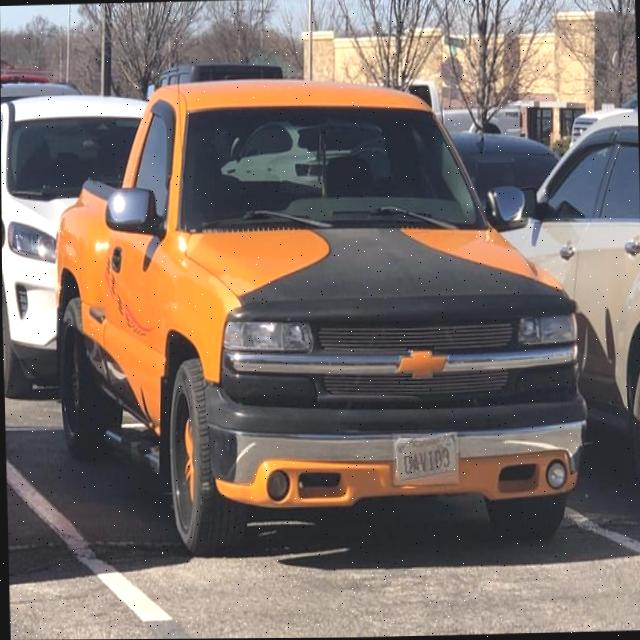LicensePlate: (393, 432, 458, 485)
